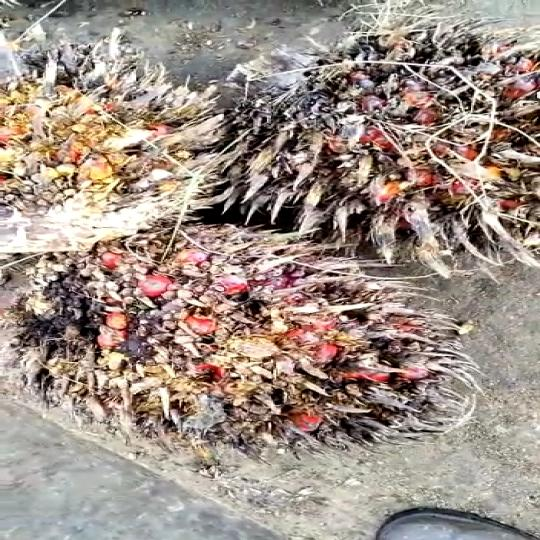terlalu masak: (0, 218, 455, 463), (187, 26, 540, 270)
